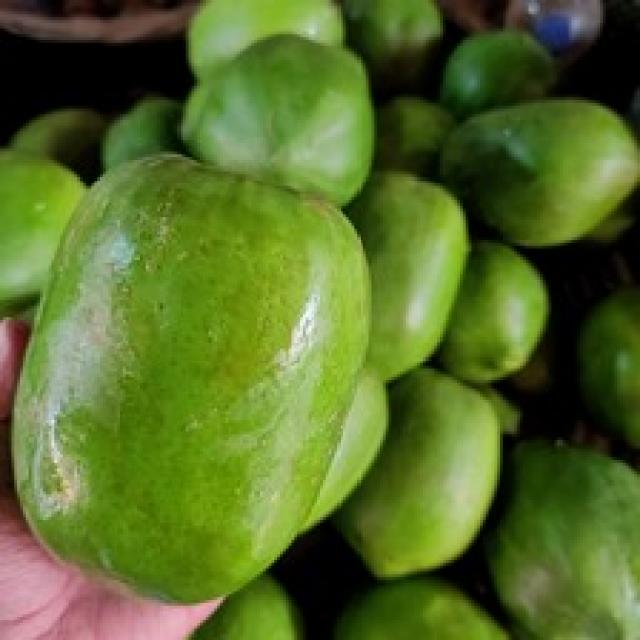Pepaya unrippen: (12, 160, 391, 612)
